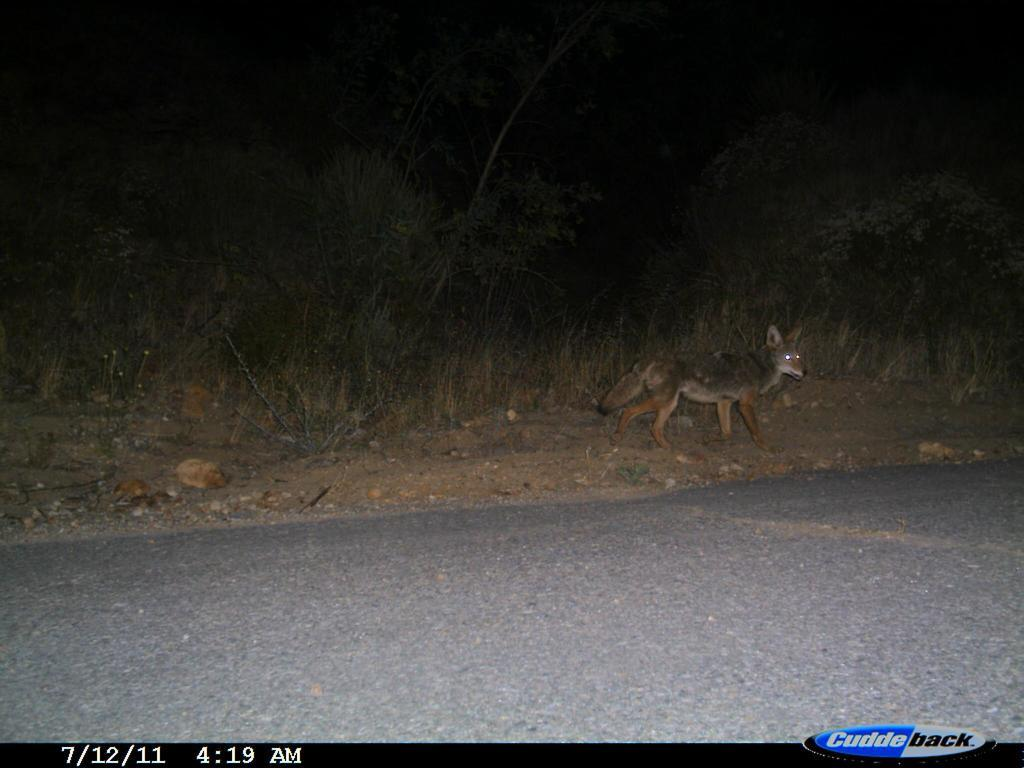coyote: (593, 319, 809, 460)
